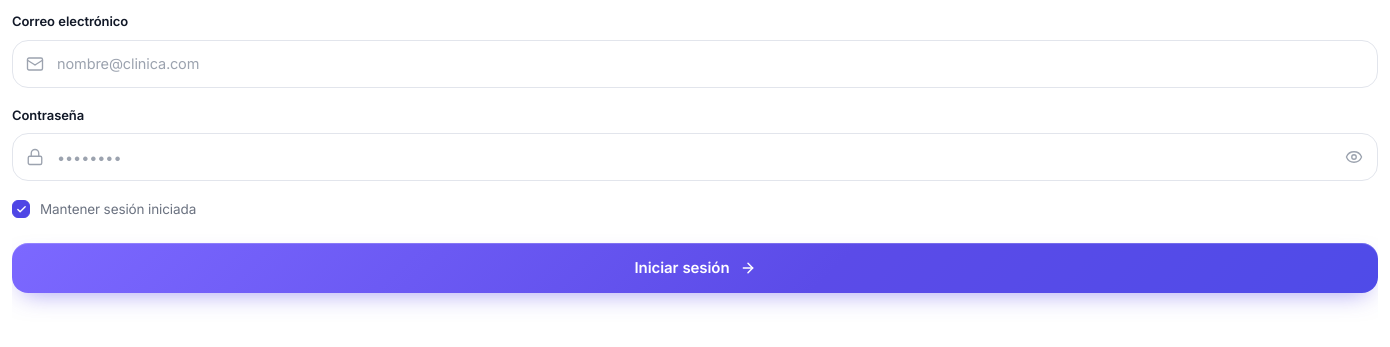
Test: LoginForm › clears the field error once the user types again
Type "secret123" into the password field labelled "Contraseña" at {"x": 695, "y": 157}, box [12, 133, 1378, 181]
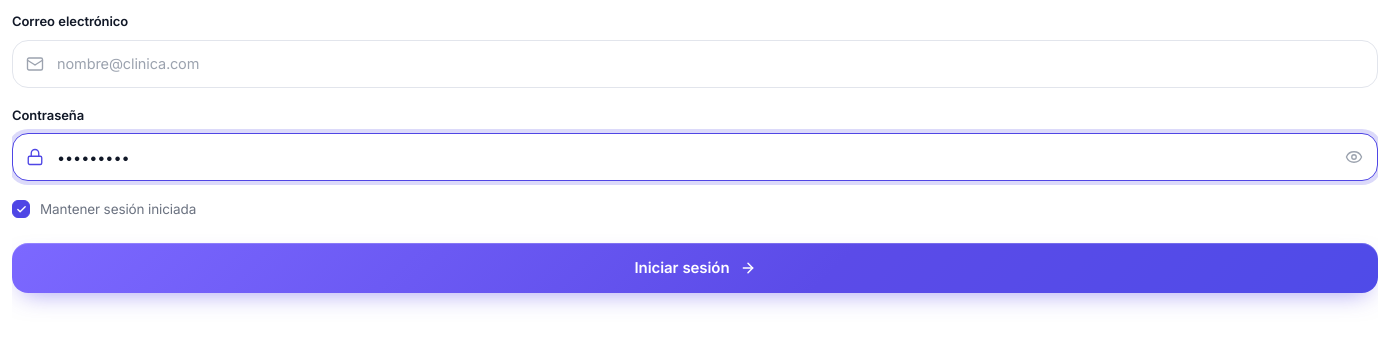
Click the button "Iniciar sesión" at {"x": 695, "y": 268}, box [12, 243, 1378, 293]
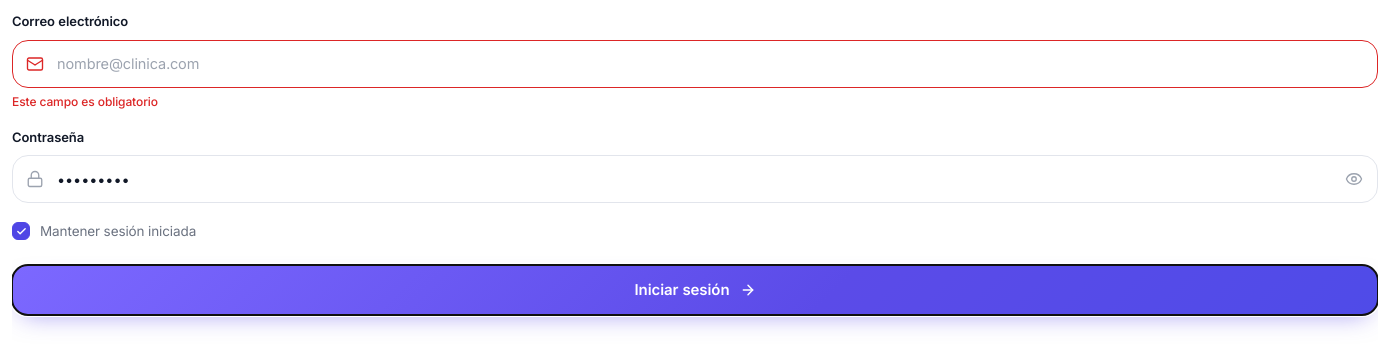
Check: the text "Este campo es obligatorio" is shown, box [12, 94, 158, 108]
Type "a" into the field labelled "Correo electrónico" at {"x": 695, "y": 64}, box [12, 40, 1378, 88]
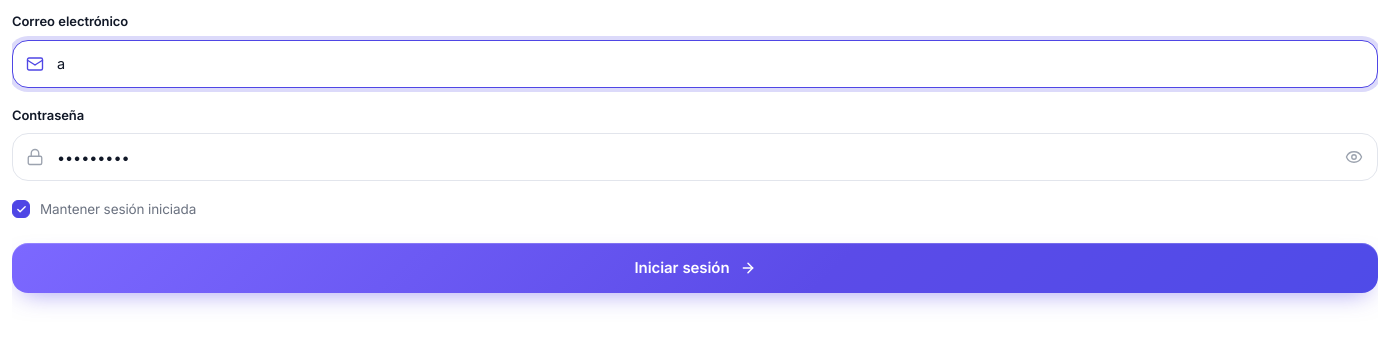
Check: the text "Este campo es obligatorio" is gone
